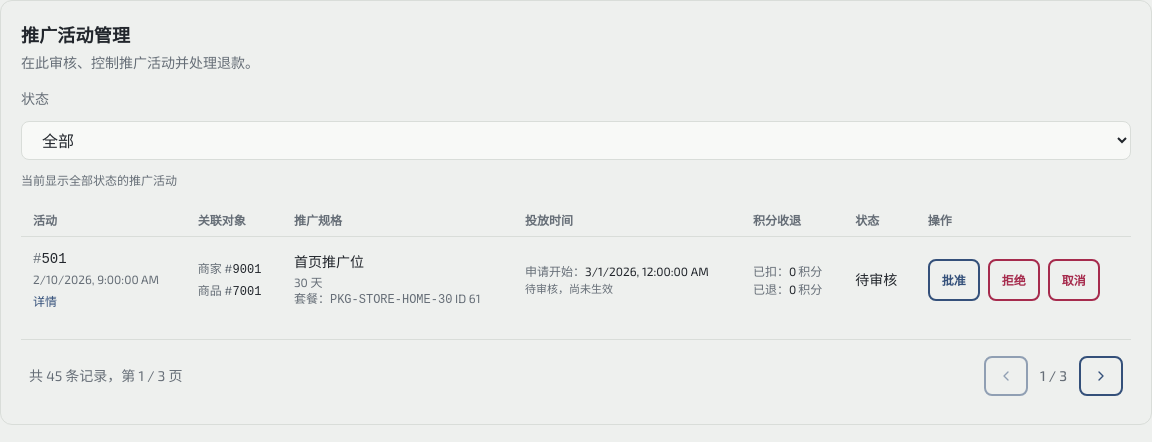
Test: AdminPromotionCampaignManager (query only) › enables 下一页 with a large total → page 2, then a status change resets the page back to 1
This screenshot has width=1152, height=442.
expect the text "待审核" is shown: met, box top-left (843, 236), bottom-right (916, 323)
Step 1. Click the button named "下一页" → click(1101, 376), box top-left (1079, 356), bottom-right (1123, 396)
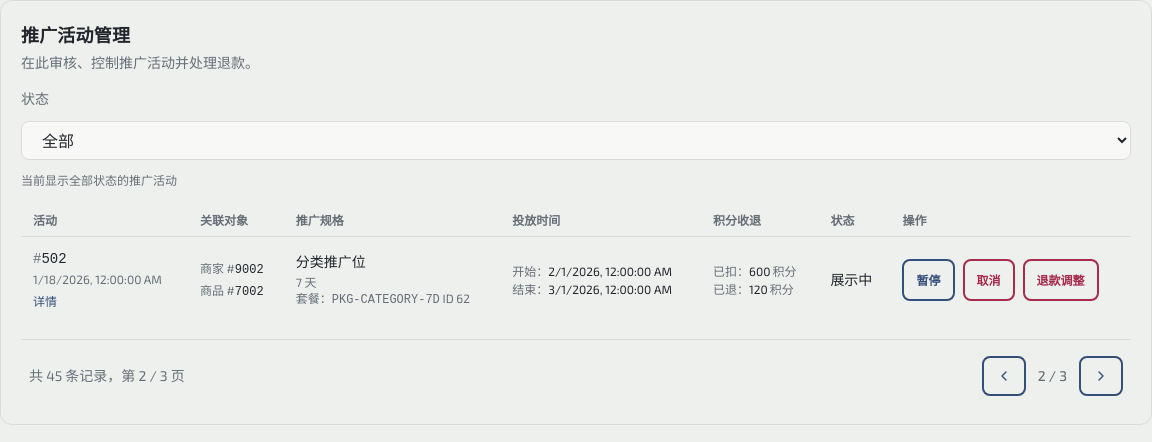
expect the text "展示中" is shown: met, box top-left (818, 236), bottom-right (890, 323)
// a filter change resets the page to 1 even though we were on page 2
Step 2. Select "已取消" in the dropdown labelled "状态" → (576, 140), box top-left (21, 121), bottom-right (1131, 160)
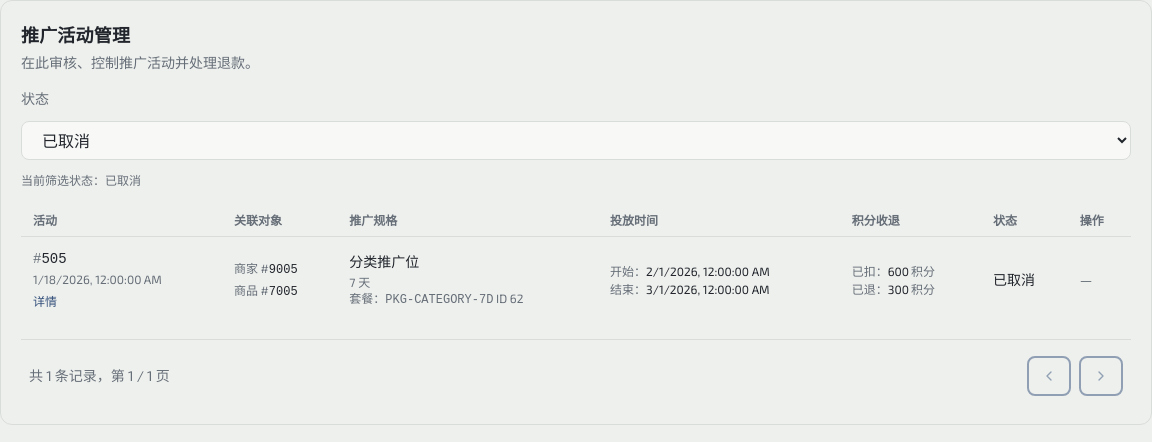
expect the text "已取消" is shown: met, box top-left (981, 236), bottom-right (1068, 323)
